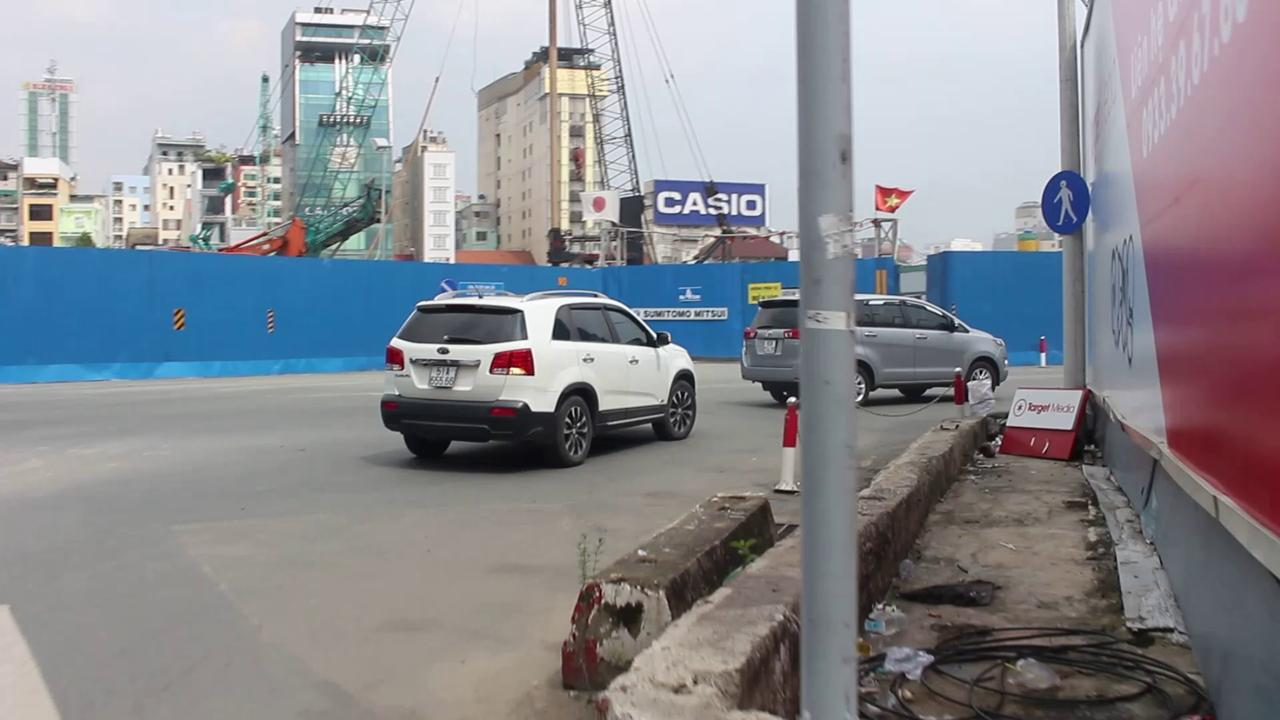P.123a: (1040, 170, 1090, 232)
